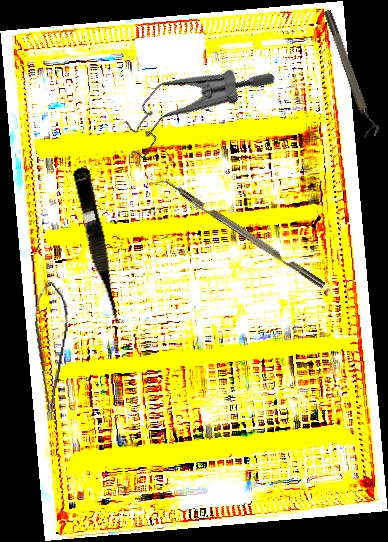Chopper: (150, 170, 326, 297)
Fixation Ring: (321, 6, 382, 140)
Micro Scissor: (69, 165, 125, 329), (21, 279, 74, 422)
Speculum: (107, 19, 279, 199)
